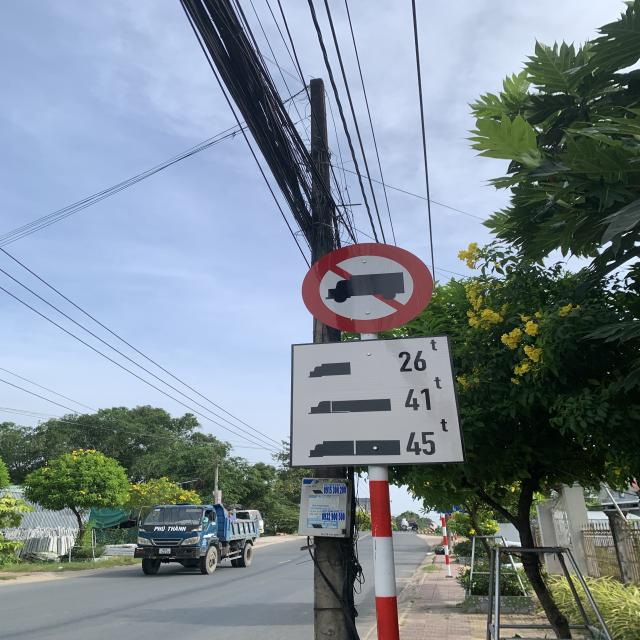Cam_Xe_Tai: (304, 240, 431, 333)
